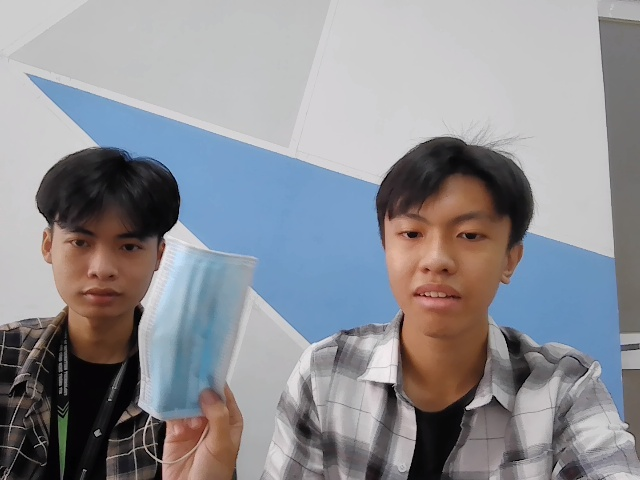human: (375, 139, 537, 337), (30, 143, 177, 317)
mask: (138, 237, 255, 422)
